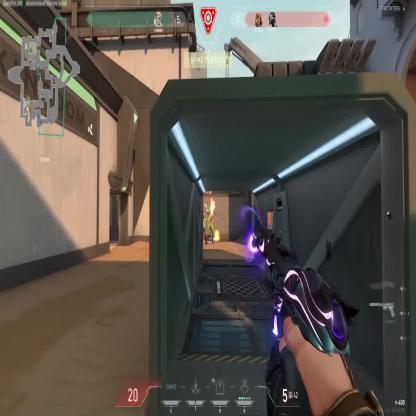enemy: (206, 211, 214, 245), (202, 212, 209, 244)
enemy_head: (202, 212, 205, 216), (209, 212, 212, 216)
